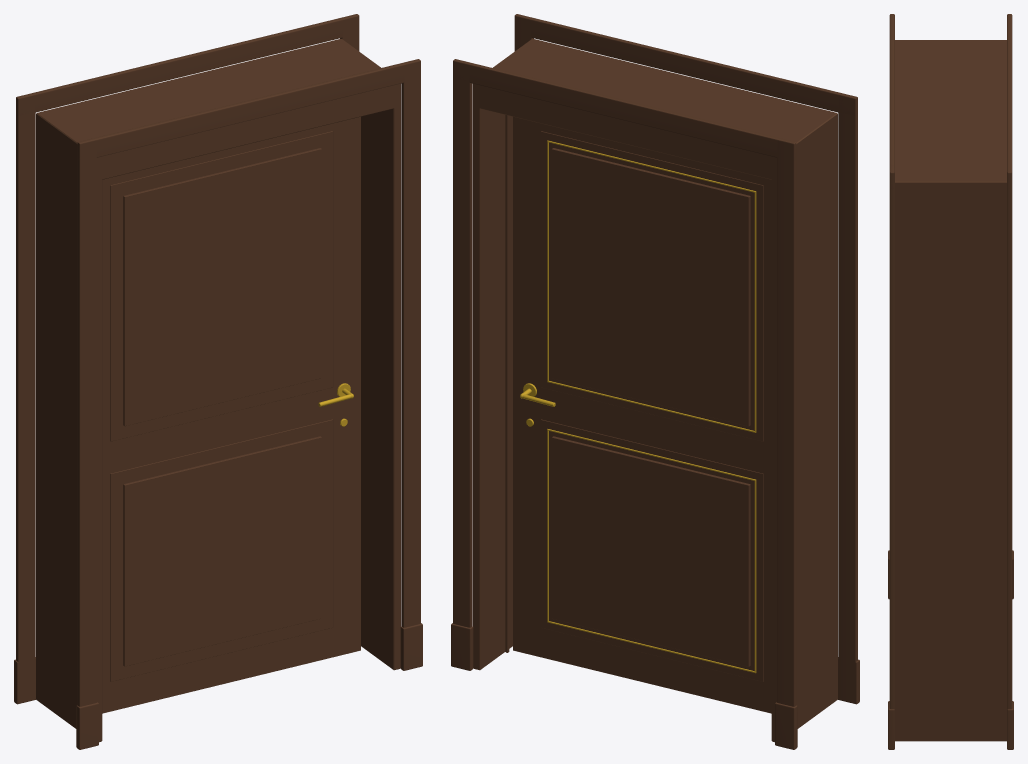
The model's file is prop_door_service_walnut_t40.glb.
The picture shows the model from 3 angles, left to right: view 1: azimuth 30°, elevation 25°; view 2: azimuth 150°, elevation 25°; view 3: azimuth 270°, elevation 25°; orthographic projection. The views are drawn at different scales.
Visible parts, largest first — view 1: LeafMesh, Frame; view 2: LeafMesh, Frame; view 3: Frame.
Boxes of the visible parts, x1=… form: LeafMesh: x1=102, y1=116, x2=360, y2=713; Frame: x1=14, y1=14, x2=422, y2=749; LeafMesh: x1=513, y1=116, x2=771, y2=713; Frame: x1=451, y1=14, x2=859, y2=749; Frame: x1=888, y1=14, x2=1013, y2=749.
Size of what is drawn, in the model's own units: 1.35 by 2.27 by 0.448.
